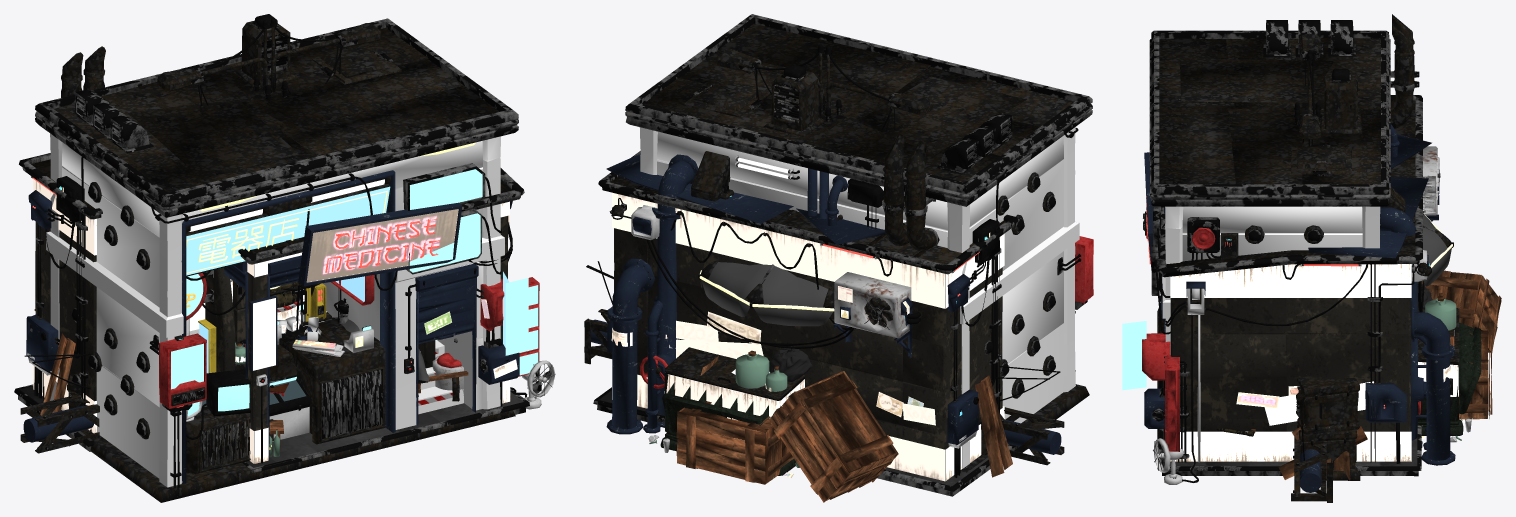
Rendered from props.opt.glb.
The picture shows the model from 3 angles, left to right: view 1: azimuth 30°, elevation 25°; view 2: azimuth 150°, elevation 25°; view 3: azimuth 270°, elevation 25°; orthographic projection. The views are drawn at different scales.
Parts seen in each view (by area): view 1: CyberShop_Tech, CyberShop_Pharmacy, CyberShop_Cofe, CyberProp_Lamp, CyberAcc_Pipe, CyberShop_StreetStore, CyberShop_Sushi, CyberProp_SodaMachine; view 2: CyberShop_Tech, CyberShop_Pharmacy, CyberShop_StreetStore, CyberAcc_Pipe, CyberProp_Lamp, CyberShop_Sushi; view 3: CyberShop_Pharmacy, CyberShop_Tech, CyberShop_Cofe, CyberAcc_Pipe, CyberProp_Lamp, CyberShop_StreetStore.
Part boxes in pixels (x1,y1,x2,y2): CyberShop_Tech: [35, 14, 539, 502]; CyberShop_Pharmacy: [14, 153, 555, 472]; CyberShop_Cofe: [67, 267, 435, 408]; CyberProp_Lamp: [157, 18, 381, 109]; CyberAcc_Pipe: [20, 394, 99, 453]; CyberShop_StreetStore: [201, 285, 468, 441]; CyberShop_Sushi: [186, 279, 436, 347]; CyberProp_SodaMachine: [273, 283, 326, 325]; CyberShop_Tech: [625, 14, 1093, 477]; CyberShop_Pharmacy: [593, 151, 1019, 502]; CyberShop_StreetStore: [698, 260, 834, 326]; CyberAcc_Pipe: [584, 309, 1064, 465]; CyberProp_Lamp: [716, 44, 932, 131]; CyberShop_Sushi: [691, 151, 733, 201]; CyberShop_Pharmacy: [1122, 95, 1501, 484]; CyberShop_Tech: [1143, 14, 1481, 480]; CyberShop_Cofe: [1296, 378, 1420, 469]; CyberAcc_Pipe: [1291, 437, 1332, 502]; CyberProp_Lamp: [1294, 34, 1321, 146]; CyberShop_StreetStore: [1216, 211, 1453, 436].
Bounding box in the file's own units: 20.39 × 15.27 × 15.2.
Materials: 32 (18 with a texture image).
